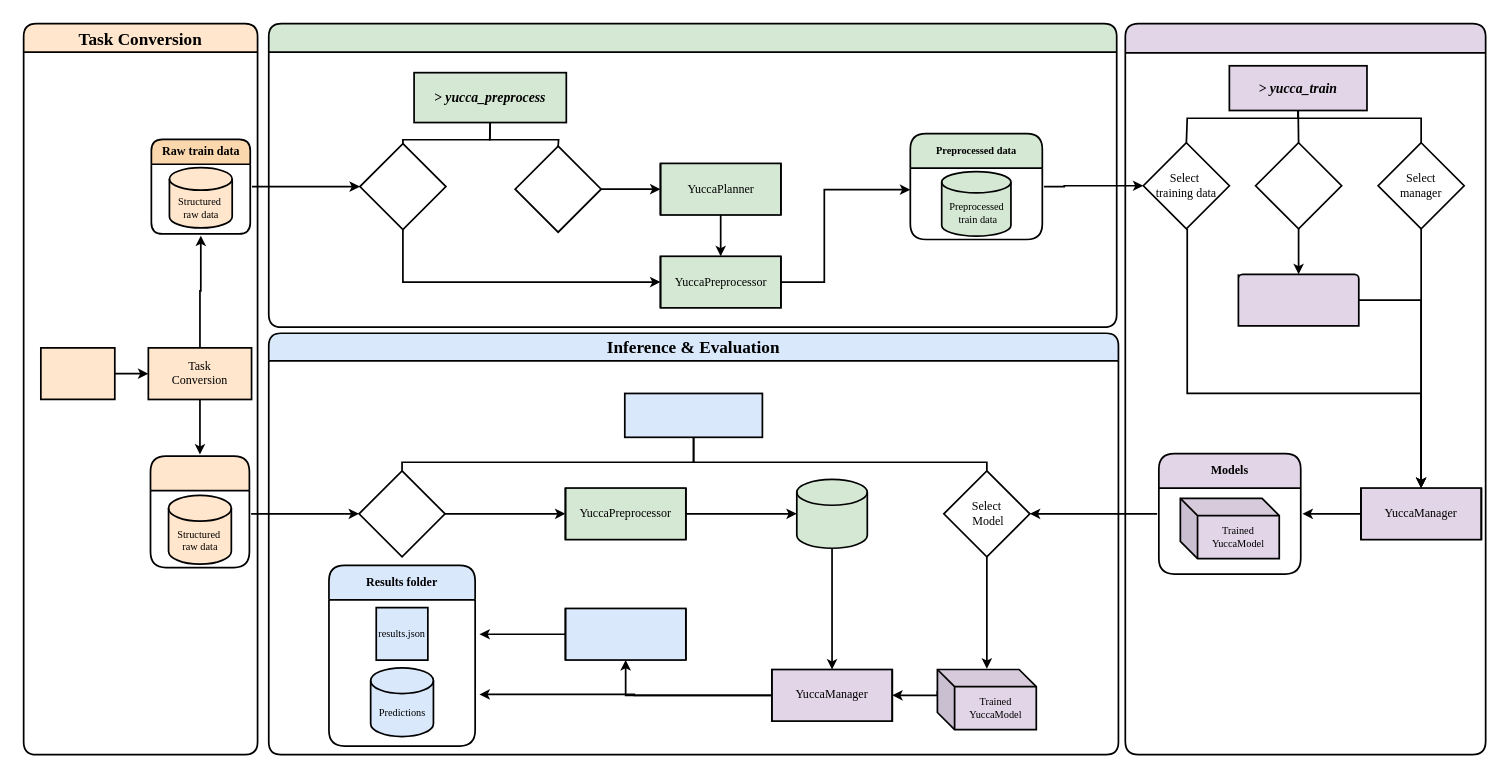
The diagram is 1508 pixels wide and 777 high, and some of its shapes have lost their labels. Each missing label, with the box of its shape:
> yucca_inference: (624, 392, 763, 438)
e.g. 3D U-Net: (1237, 273, 1359, 326)
Model Training: (1124, 22, 1486, 755)
Preprocessed test data: (796, 478, 868, 549)
Preprocessing: (267, 22, 1117, 328)
Raw test data: (149, 455, 250, 568)
Select model and dims: (1254, 141, 1342, 229)
Select plan: (514, 145, 602, 233)
Select raw data: (359, 142, 446, 230)
Select Testing Data: (358, 470, 445, 557)
Unstructured Raw Data: (40, 347, 115, 400)
YuccaEvaluator: (564, 607, 686, 660)
